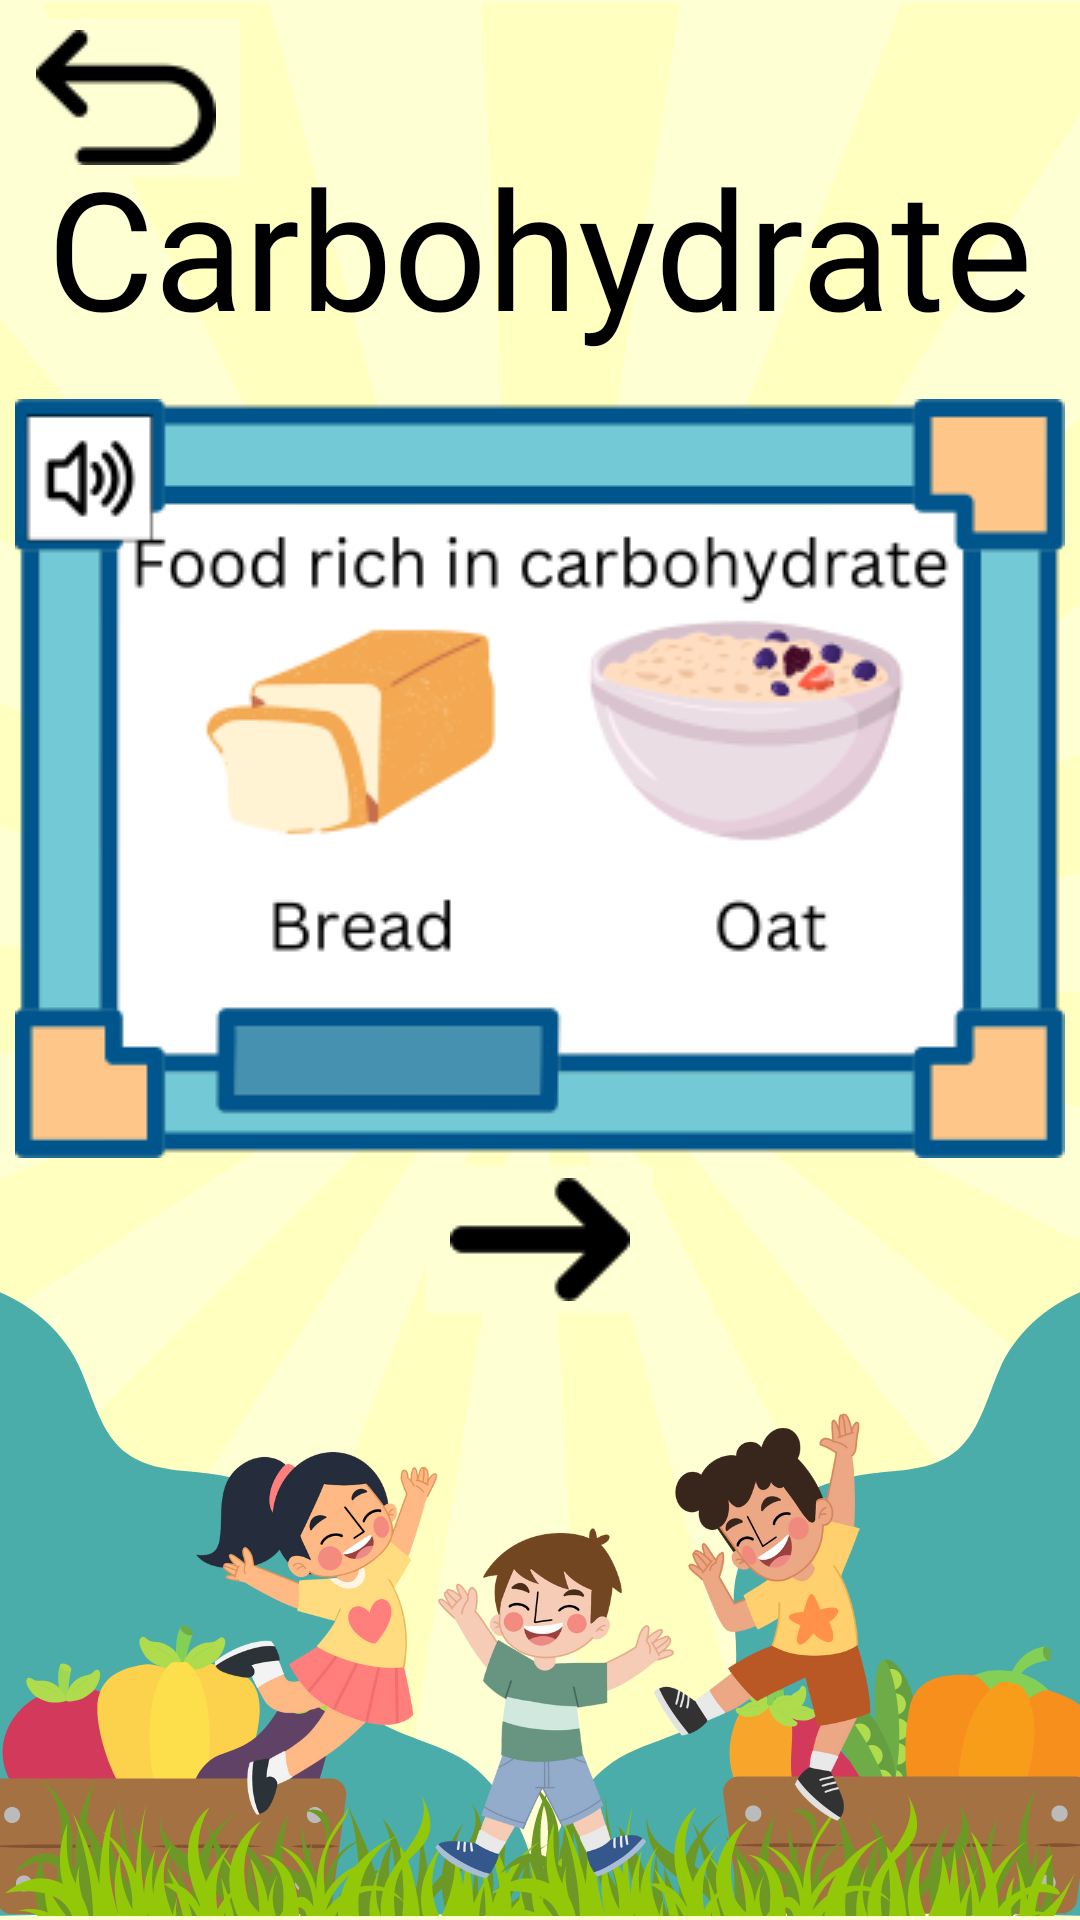

Icon bounding boxes for this 1080px x 1920px phone screenshot, format (x1, y1, x2, y2):
Back: (0, 0, 252, 195)
Next button: (450, 1178, 630, 1301)
